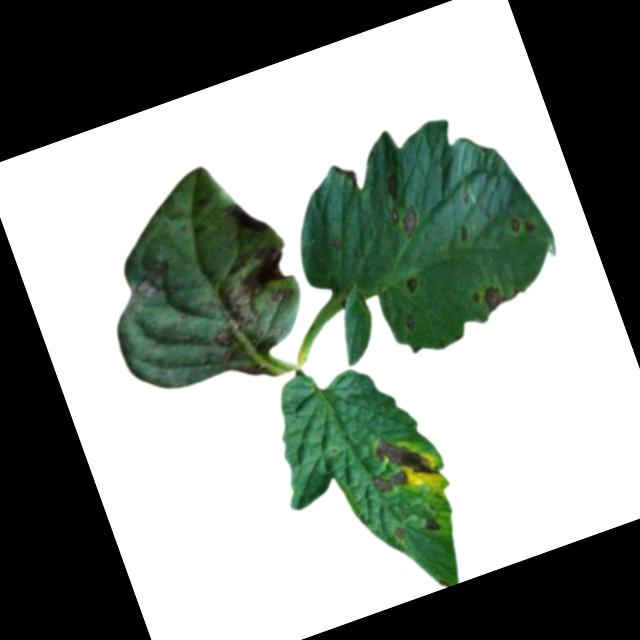Early_blight: (183, 239, 318, 372), (369, 428, 434, 491), (112, 252, 182, 310), (223, 196, 273, 244), (385, 197, 425, 243), (468, 279, 511, 319), (368, 466, 409, 498), (379, 173, 404, 202), (507, 214, 535, 239), (419, 513, 442, 538), (389, 523, 408, 544), (399, 310, 416, 332), (401, 277, 419, 295)
